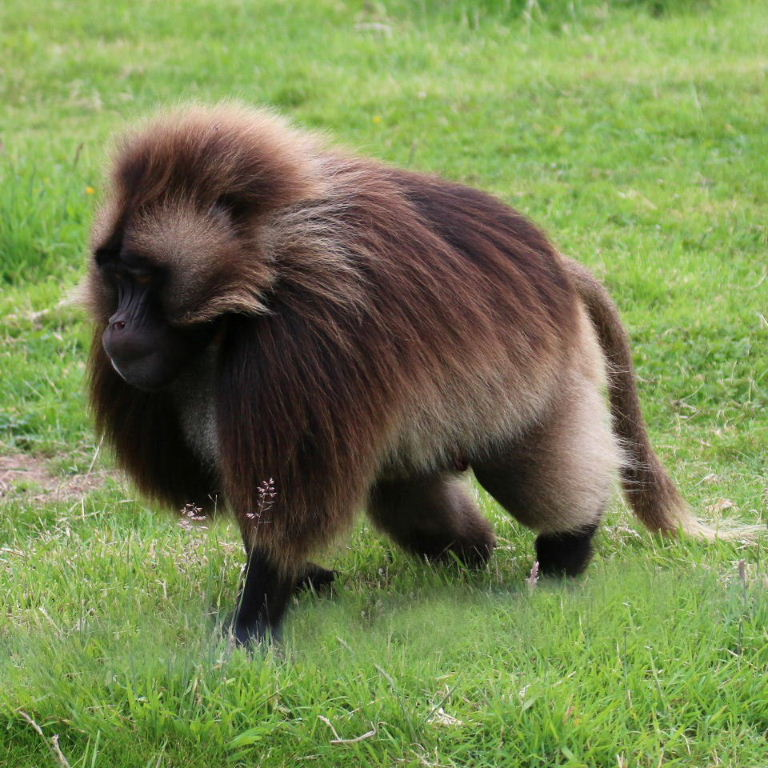Gelada: (53, 102, 682, 620)
